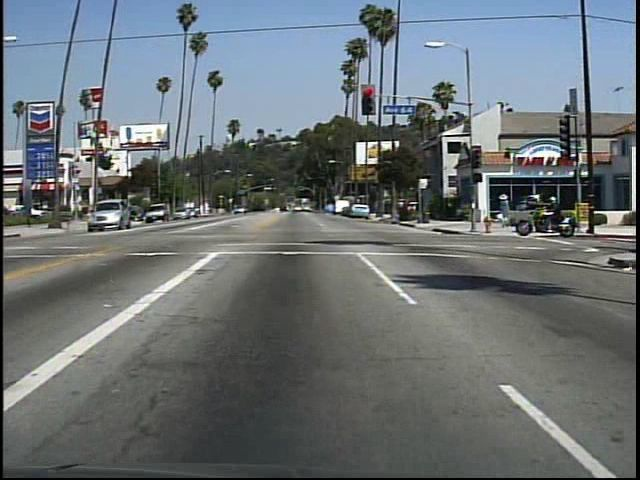person: (540, 194, 567, 235), (492, 189, 511, 231)
